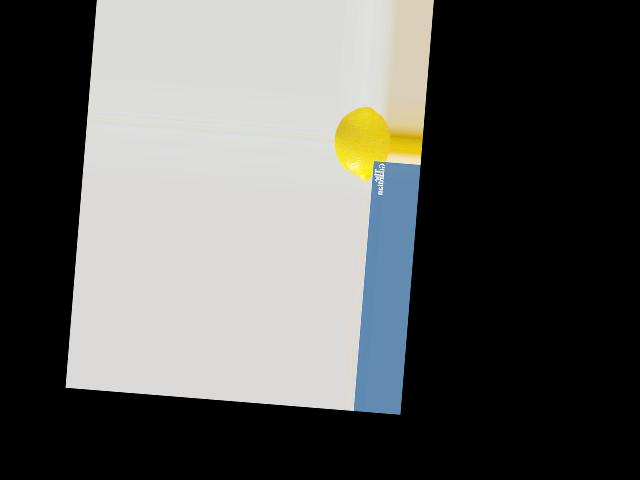lemon: (331, 104, 393, 180)
